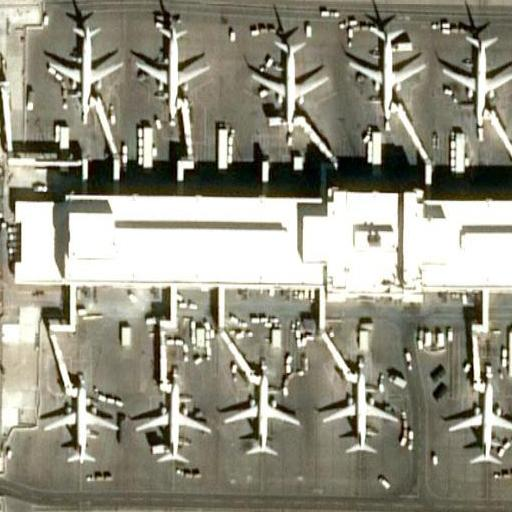Aircraft: (245, 22, 330, 134), (433, 20, 512, 132), (348, 11, 426, 124), (131, 16, 210, 127), (44, 17, 124, 121), (126, 367, 211, 464), (219, 367, 305, 455), (39, 379, 128, 464), (319, 366, 397, 457), (449, 375, 512, 471)
